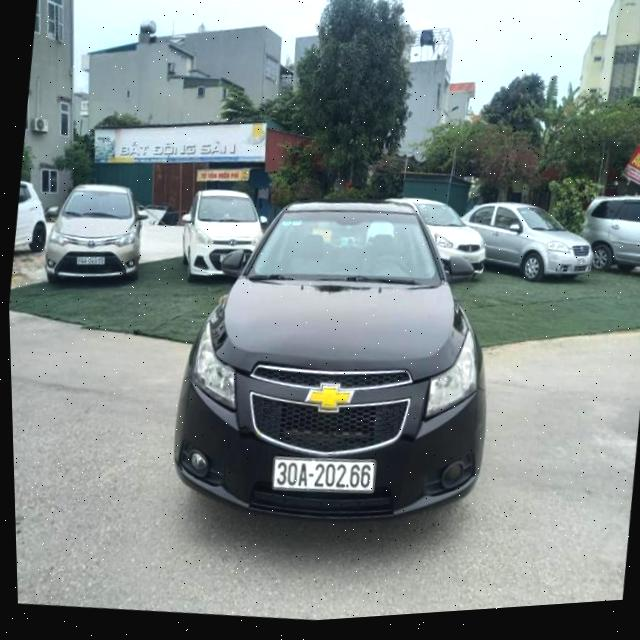car: (159, 159, 514, 559), (454, 189, 600, 292), (37, 172, 155, 296), (385, 186, 495, 290), (173, 181, 268, 289), (573, 182, 640, 287), (11, 170, 53, 263)
plate: (266, 443, 382, 506), (68, 242, 109, 276)
